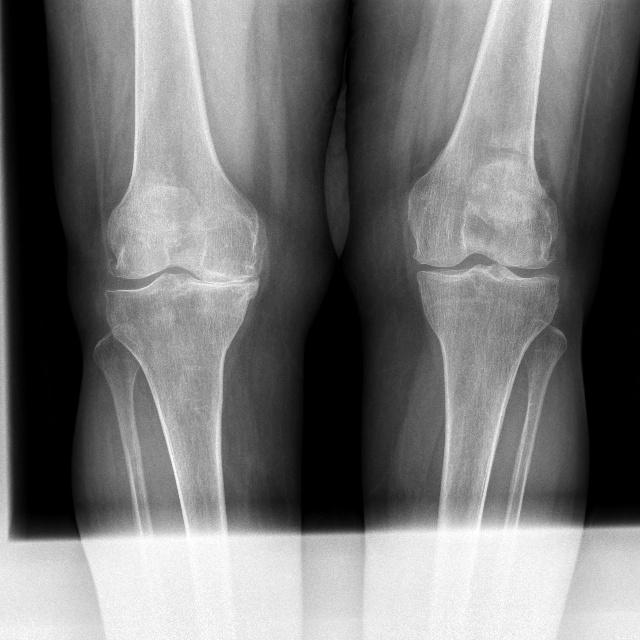Knee: (102, 212, 264, 341), (407, 200, 561, 320)
